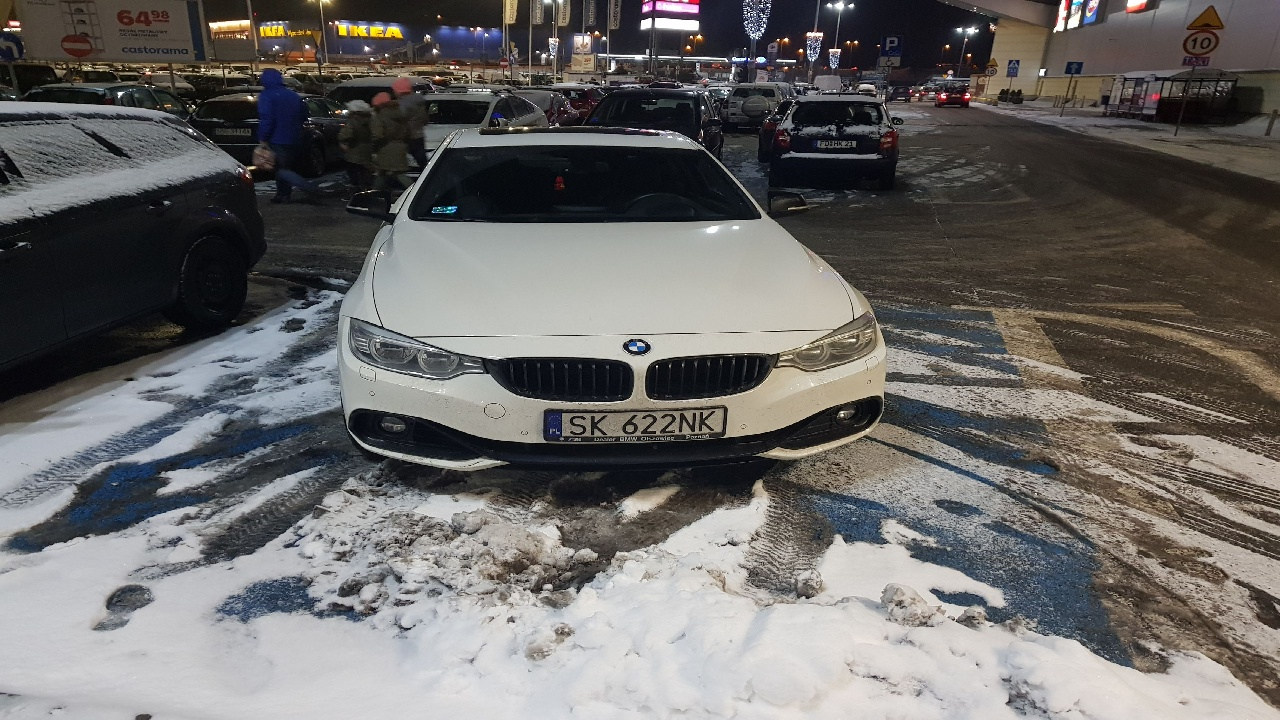B33_10: (1181, 28, 1224, 55)
